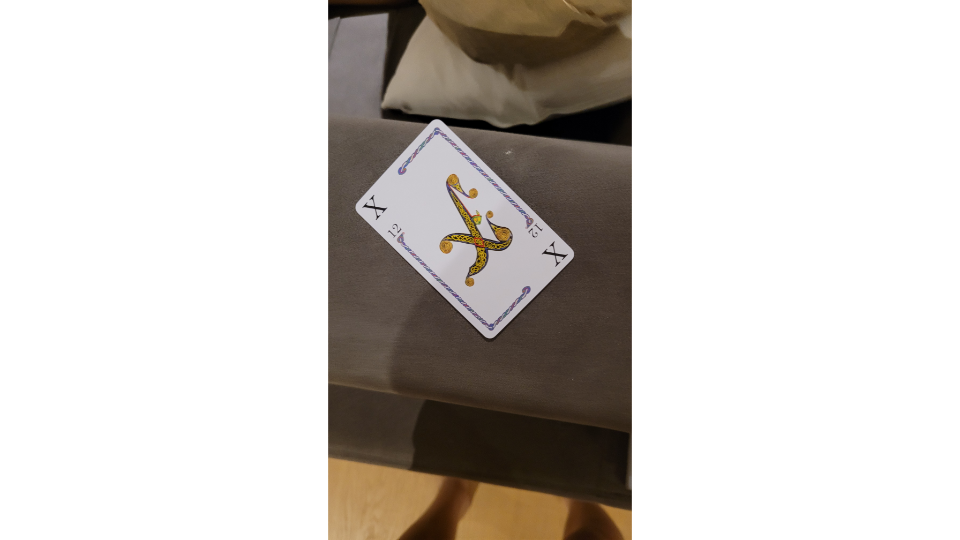X: (352, 117, 577, 342)
